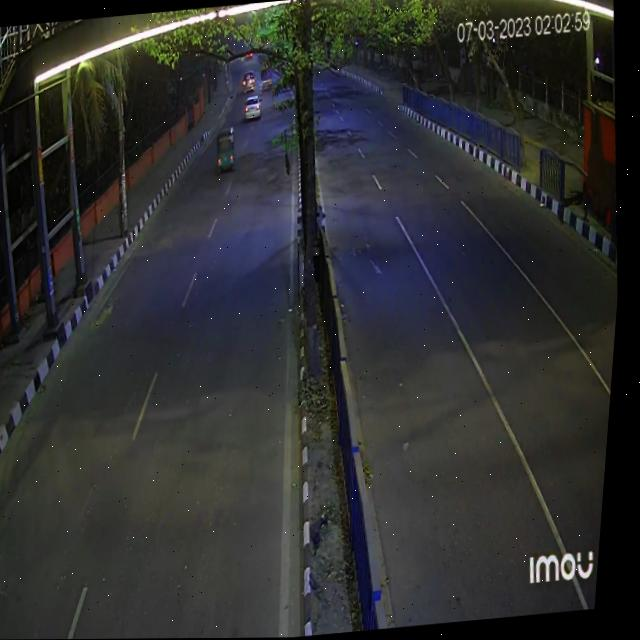cng: (212, 124, 242, 182)
